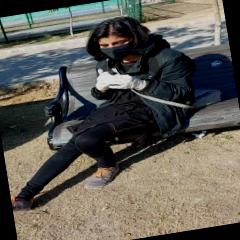gloved: (108, 70, 148, 94), (95, 70, 112, 92)
